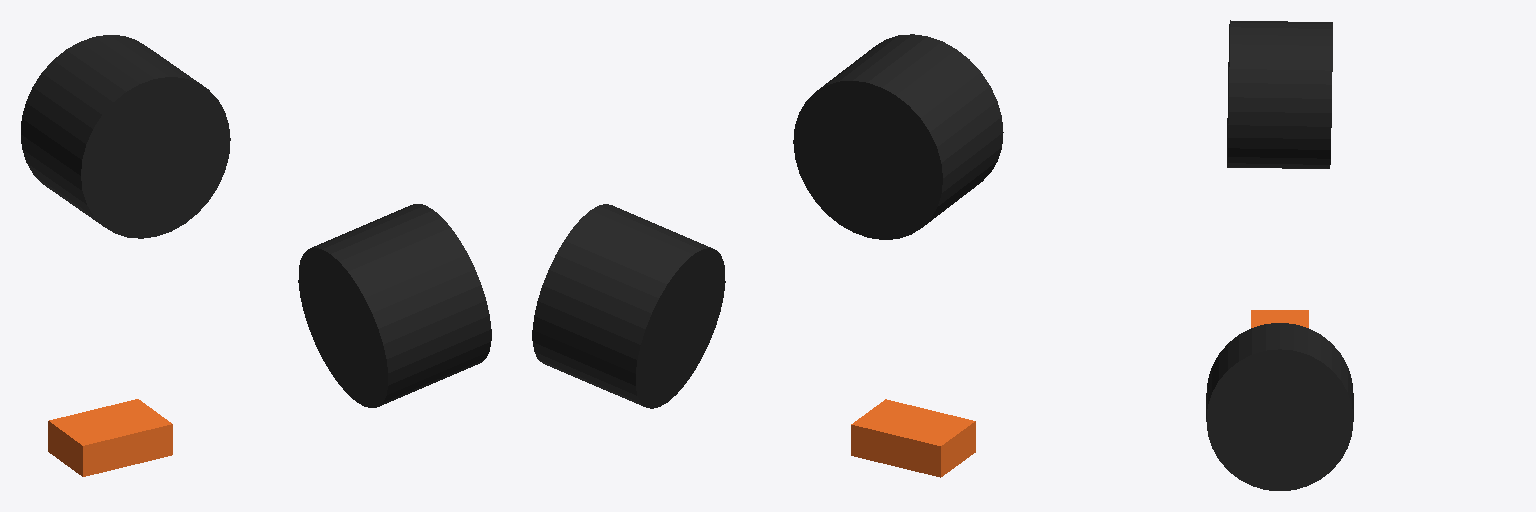
robot.urdf — cartographer_backpack_3d:
<!--
  Copyright 2016 The Cartographer Authors

  Licensed under the Apache License, Version 2.0 (the "License");
  you may not use this file except in compliance with the License.
  You may obtain a copy of the License at

       http://www.apache.org/licenses/LICENSE-2.0

  Unless required by applicable law or agreed to in writing, software
  distributed under the License is distributed on an "AS IS" BASIS,
  WITHOUT WARRANTIES OR CONDITIONS OF ANY KIND, either express or implied.
  See the License for the specific language governing permissions and
  limitations under the License.

  p3at realsense and px4 links:
	lidar link: camera_depth_optical_frame
	imu link: base_link
-->

<robot name="cartographer_backpack_3d">
  <material name="orange">
    <color rgba="1.0 0.5 0.2 1" />
  </material>
  <material name="gray">
    <color rgba="0.2 0.2 0.2 1" />
  </material>

  <link name="imu_link">
    <visual>
      <origin xyz="0.0 0.0 0.0" />
      <geometry>
        <box size="0.06 0.04 0.02" />
      </geometry>
      <material name="orange" />
    </visual>
  </link>

  <link name="camera_depth_optical_frame">
    <visual>
      <origin xyz="0.0 0.0 0.0" />
      <geometry>
        <cylinder length="0.07" radius="0.05" />
      </geometry>
      <material name="gray" />
    </visual>
  </link>

  <link name="vertical_vlp16_link">
    <visual>
      <origin xyz="0.0 0.0 0.0" />
      <geometry>
        <cylinder length="0.07" radius="0.05" />
      </geometry>
      <material name="gray" />
    </visual>
  </link>

  <link name="base_link" />

  <joint name="imu_link_joint" type="fixed">
    <parent link="base_link" />
    <child link="imu_link" />
    <origin xyz="0 0 0" rpy="3.1416 0 0" />
  </joint>

  <joint name="camera_depth_optical_frame_joint" type="fixed">
    <parent link="base_link" />
    <child link="camera_depth_optical_frame" />
    <origin xyz="0.01 0. 0.19" rpy="-1.59 0.0 0.0" />
  </joint>

  <joint name="vertical_vlp16_link_joint" type="fixed">
    <parent link="base_link" />
    <child link="vertical_vlp16_link" />
    <origin xyz="0.19 0. 0.04" rpy="0. 1.3963 0." />
  </joint>
</robot>

--- Render facts (derived) ---
The picture shows the robot from 3 angles, left to right: view 1: azimuth 30°, elevation 25°; view 2: azimuth 150°, elevation 25°; view 3: azimuth 270°, elevation 25°; orthographic projection.
Robot: cartographer_backpack_3d — 4 links, 3 joints (3 fixed); root link base_link; default pose: every joint at zero.
Visible links, largest first — view 1: camera_depth_optical_frame, vertical_vlp16_link, imu_link; view 2: camera_depth_optical_frame, vertical_vlp16_link, imu_link; view 3: vertical_vlp16_link, camera_depth_optical_frame, imu_link.
Link boxes in pixels (x1,y1,x2,y2): camera_depth_optical_frame: (21, 35, 230, 238); vertical_vlp16_link: (298, 204, 491, 407); imu_link: (48, 399, 172, 476); camera_depth_optical_frame: (793, 34, 1003, 239); vertical_vlp16_link: (532, 204, 725, 408); imu_link: (851, 399, 975, 477); vertical_vlp16_link: (1206, 323, 1353, 490); camera_depth_optical_frame: (1227, 20, 1332, 168); imu_link: (1251, 310, 1308, 327).
Bounding box of the posed robot: 0.2731 × 0.1 × 0.256 m (x, y, z).
Geometry: primitives only (box / cylinder / sphere), no mesh files.